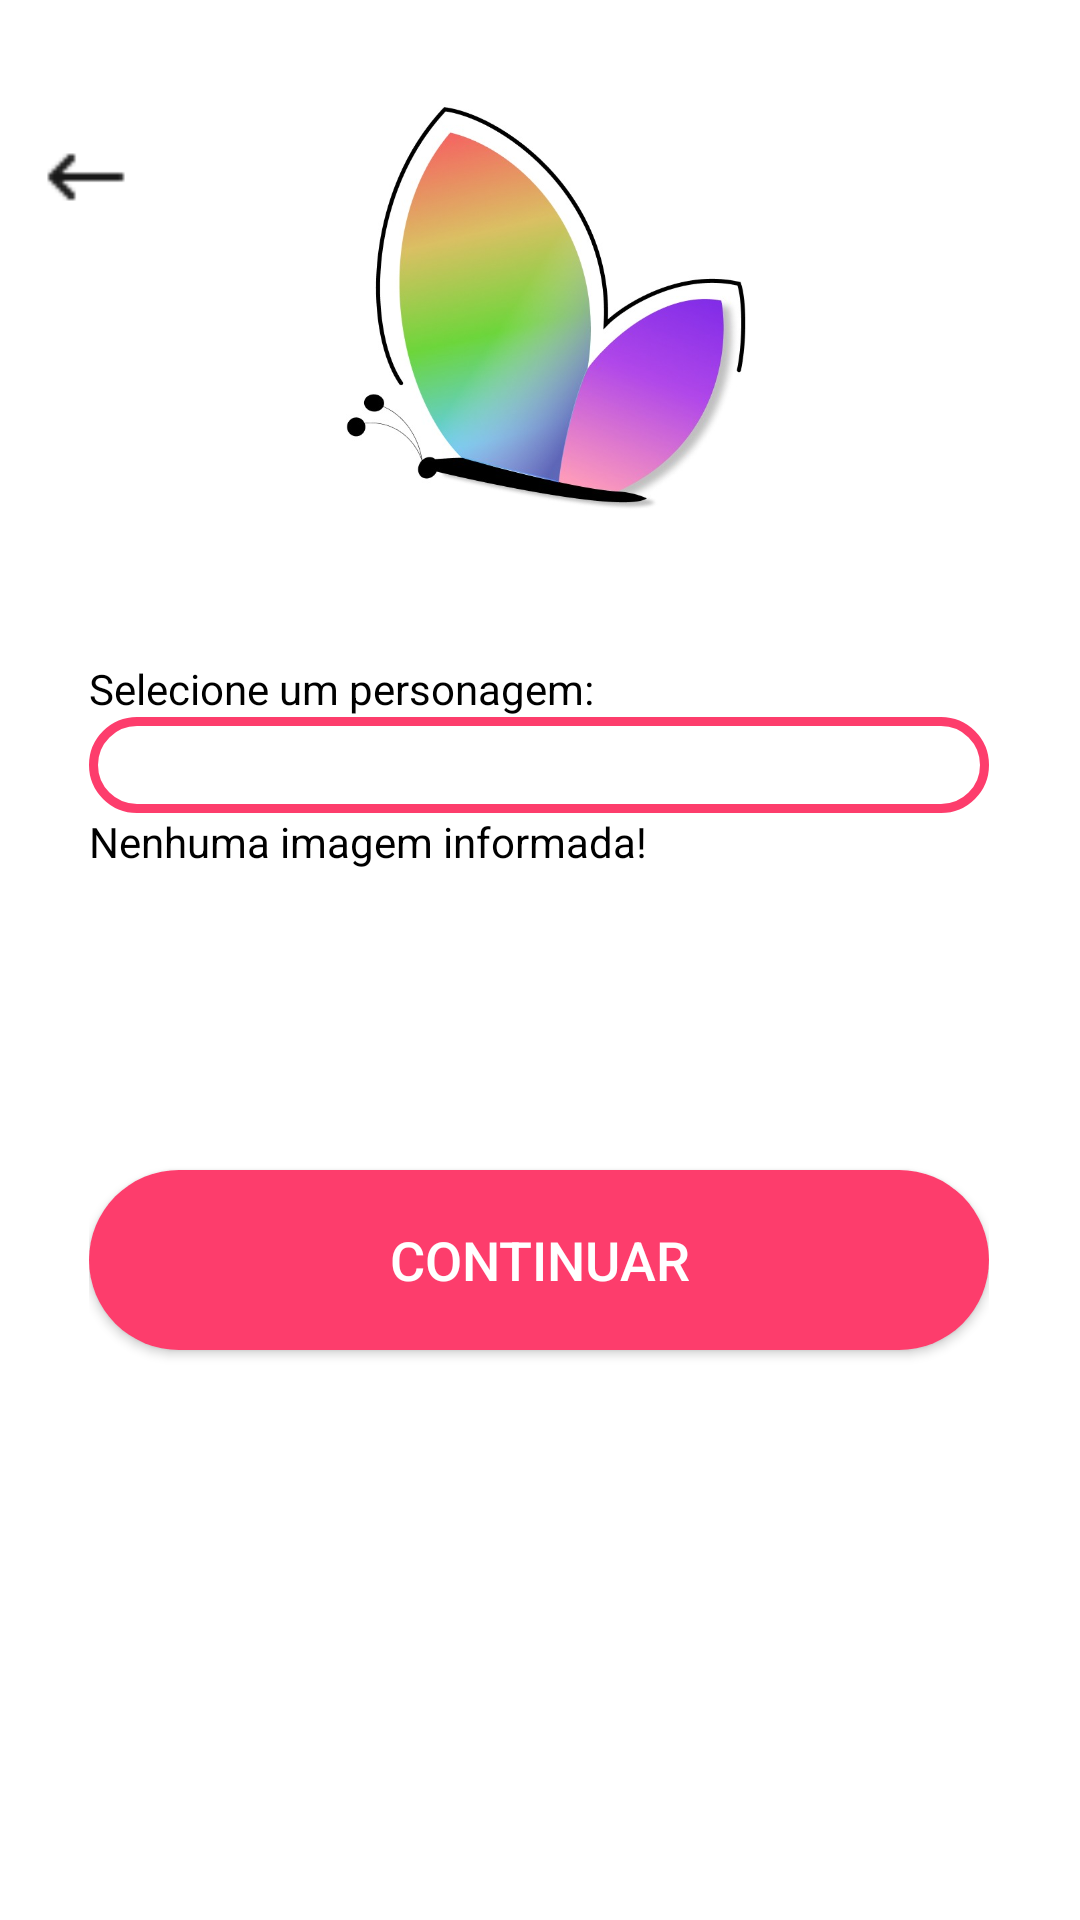

Icons on this 1080 × 1920 Android screen, each with the point to tap as (x=x, y=y):
voltar seta: (x=86, y=177)
